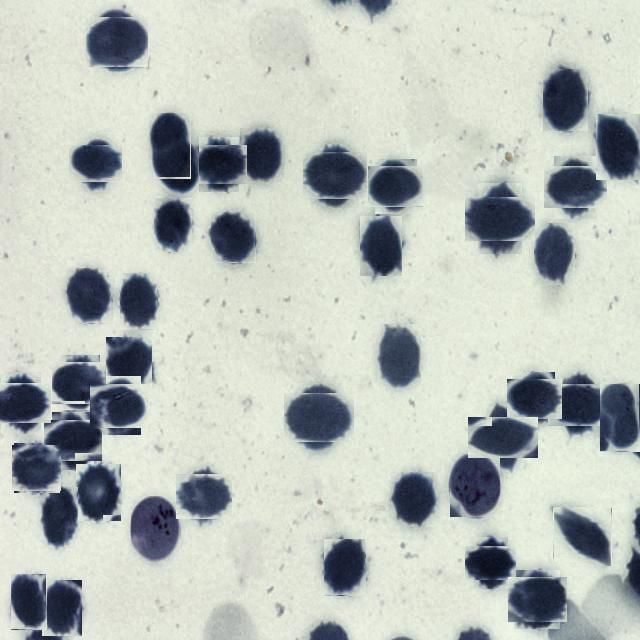red blood cell: (289, 388, 349, 448), (554, 508, 612, 566), (471, 190, 529, 248), (88, 13, 146, 70), (306, 148, 362, 204), (475, 410, 531, 466), (377, 324, 421, 390), (596, 114, 640, 180), (549, 161, 602, 214), (543, 69, 588, 131), (149, 112, 191, 178), (600, 384, 640, 452), (552, 379, 604, 431), (511, 574, 563, 626), (76, 464, 122, 522), (534, 223, 576, 286), (152, 137, 199, 193), (179, 471, 230, 522), (391, 472, 438, 527), (66, 268, 112, 324), (94, 380, 144, 431), (360, 216, 402, 276), (48, 416, 98, 466), (106, 337, 152, 390), (0, 378, 47, 429), (324, 539, 366, 596), (40, 487, 78, 548), (55, 358, 103, 406), (13, 444, 61, 492), (211, 212, 256, 263), (240, 128, 282, 182), (372, 162, 419, 210), (195, 140, 242, 188), (511, 376, 558, 424), (42, 580, 82, 636), (120, 273, 158, 330), (72, 141, 118, 186), (154, 198, 192, 252), (11, 574, 47, 630), (470, 542, 512, 584)
ring: (130, 496, 180, 563), (450, 454, 501, 518)
